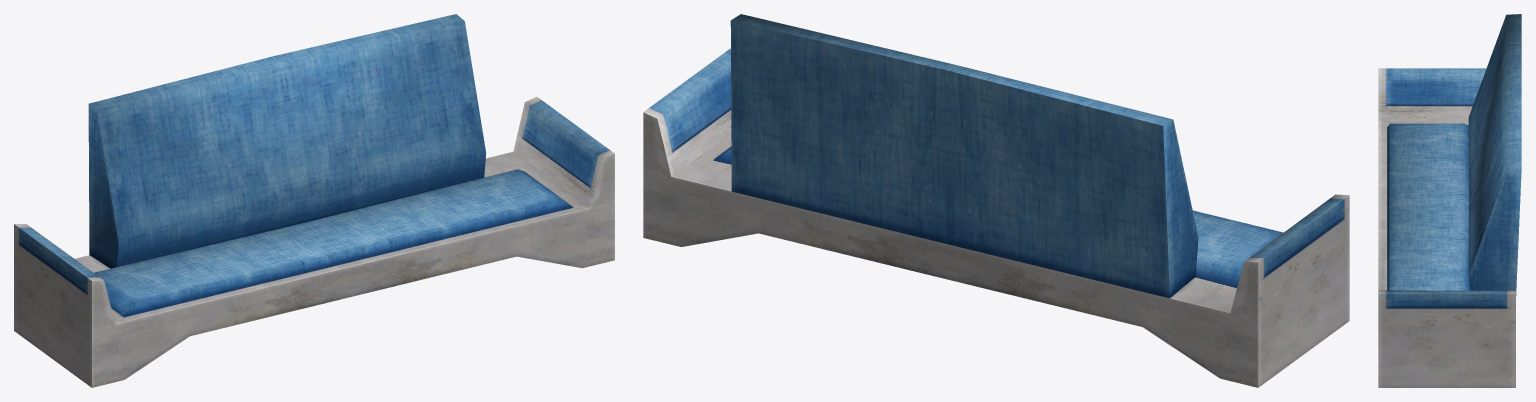
The model's file is frn_all_mdrn_couch_s02_l1.fbx.
The picture shows the model from 3 angles, left to right: view 1: azimuth 30°, elevation 25°; view 2: azimuth 150°, elevation 25°; view 3: azimuth 270°, elevation 25°; orthographic projection. The views are drawn at different scales.
Visible parts, largest first — view 1: mesh_node; view 2: mesh_node; view 3: mesh_node.
Part boxes in pixels (x1=…): mesh_node: x1=14, y1=14, x2=614, y2=387; mesh_node: x1=643, y1=14, x2=1349, y2=387; mesh_node: x1=1378, y1=14, x2=1521, y2=387.
Size of the model in its own units: 3.88 by 1.48 by 1.04.
